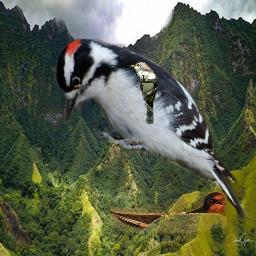Cuckoo: (129, 62, 159, 124)
Swallow: (110, 191, 227, 233)
Woodpecker: (53, 35, 252, 224)
